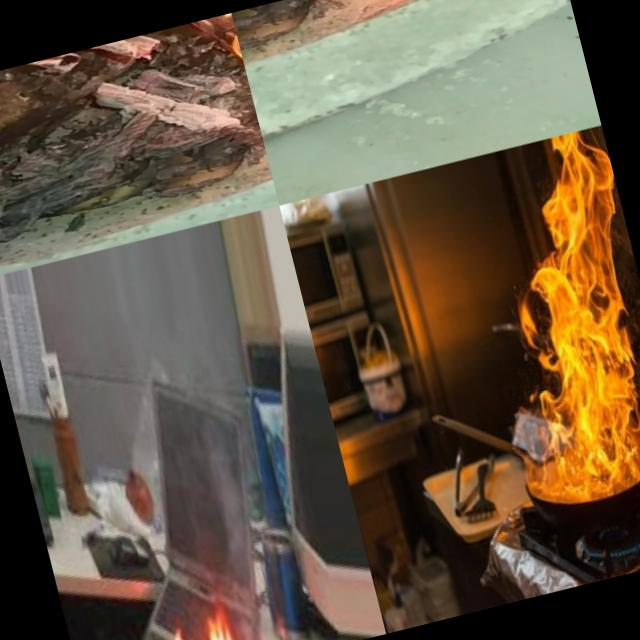fire: (449, 126, 640, 508), (155, 594, 246, 640)
smoke: (185, 395, 303, 640)
